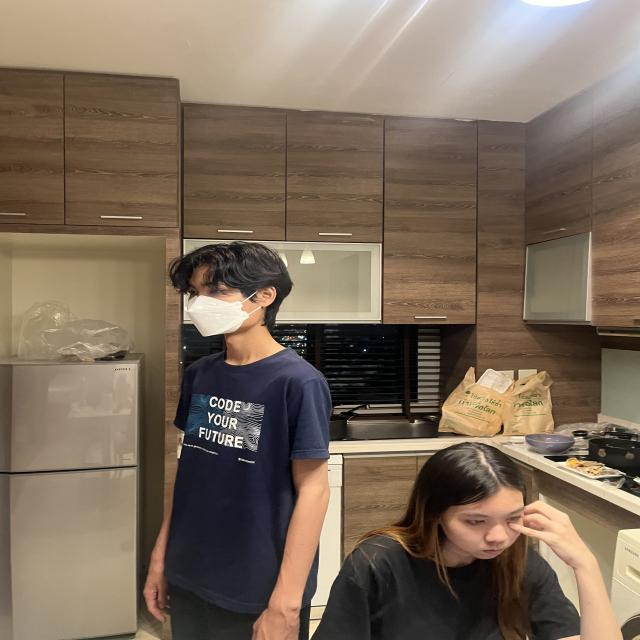mask: (183, 294, 250, 338)
